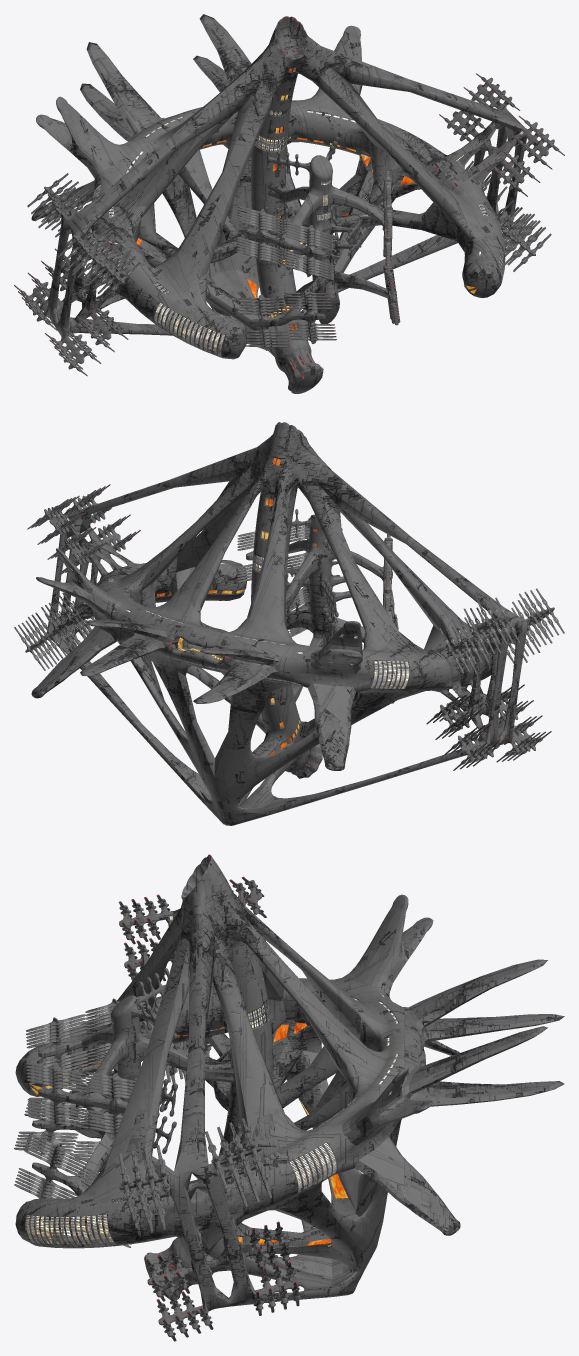
File: freeport_space_station.glb
The picture shows the model from 3 angles, top to bottom: view 1: azimuth 30°, elevation 25°; view 2: azimuth 150°, elevation 25°; view 3: azimuth 270°, elevation 25°; orthographic projection. The views are drawn at different scales.
Visible parts, largest first — view 1: MaterialFBXASC032FBXASC0352142150880 (×7), SG-Window, MaterialFBXASC032FBXASC03511231, SG-Gold-glow; view 2: MaterialFBXASC032FBXASC0352142150880 (×7), SG-Window, SG-Gold-glow; view 3: MaterialFBXASC032FBXASC0352142150880 (×7), SG-Window, MaterialFBXASC032FBXASC03511231, SG-Gold-glow.
Part boxes in pixels (x1,y1,x2,y2): MaterialFBXASC032FBXASC0352142150880 (×7): (14,14,564,393); SG-Window: (38,110,540,359); MaterialFBXASC032FBXASC03511231: (250,177,395,347); SG-Gold-glow: (136,68,476,329); MaterialFBXASC032FBXASC0352142150880 (×7): (14,422,564,825); SG-Window: (23,494,556,761); SG-Gold-glow: (157,458,299,754); MaterialFBXASC032FBXASC0352142150880 (×7): (14,854,564,1341); SG-Window: (26,883,401,1318); MaterialFBXASC032FBXASC03511231: (30,1005,128,1198); SG-Gold-glow: (30,1022,347,1245).
Size of the model in its own units: 217 by 154 by 173.
Materials: 5 (2 with a texture image).
